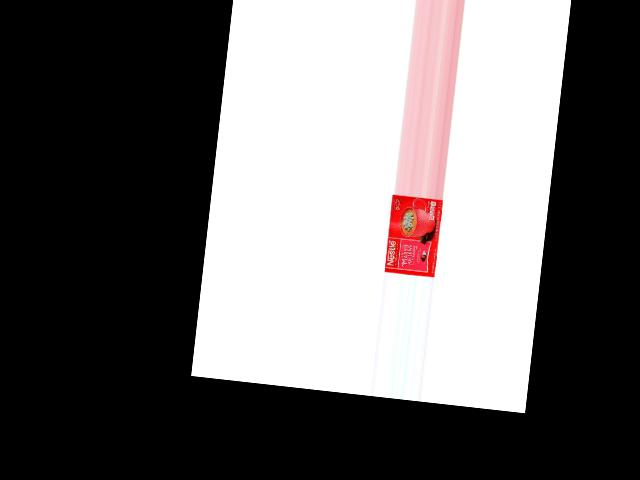chocolate: (386, 194, 446, 275)
